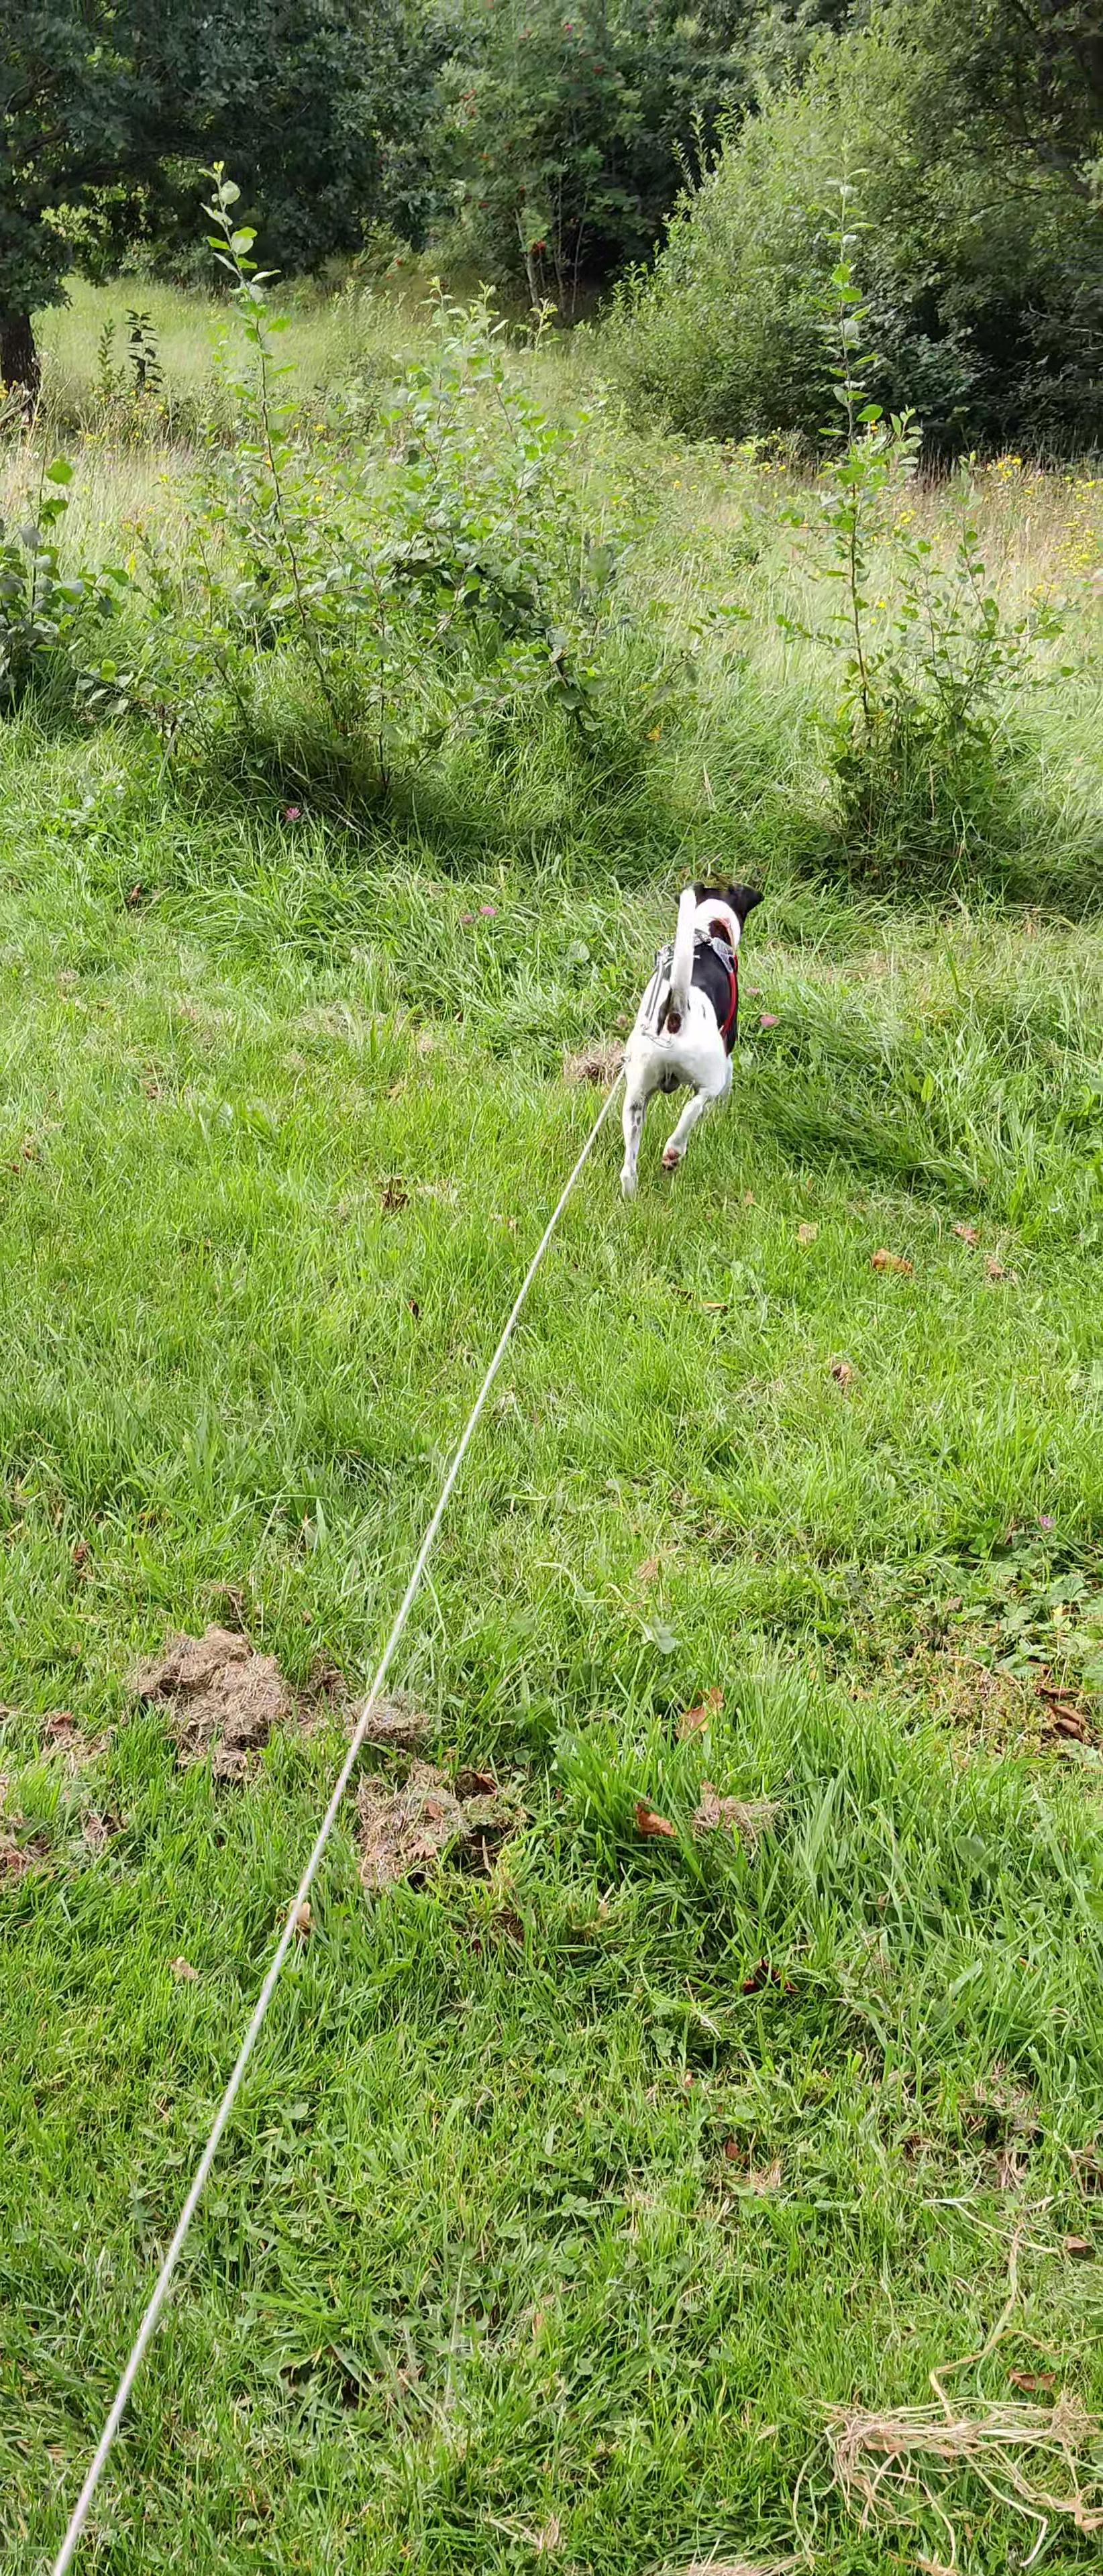Dog: (608, 877, 759, 1193)
